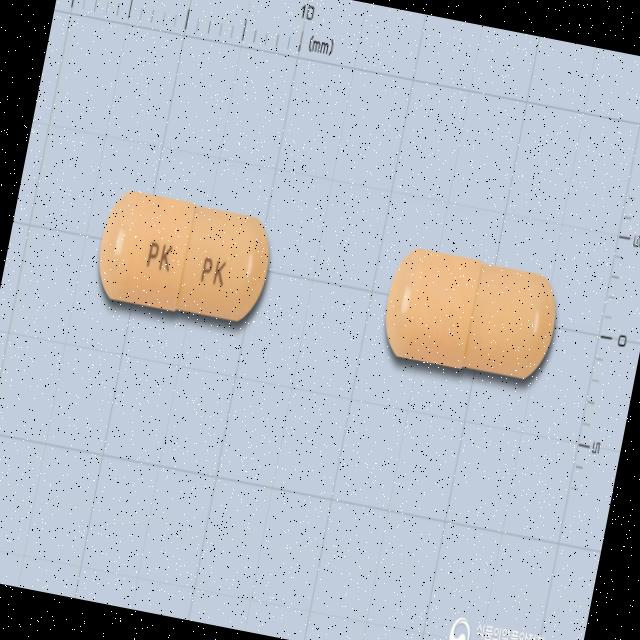Cefac Cap: (372, 238, 570, 395), (88, 181, 282, 333)
